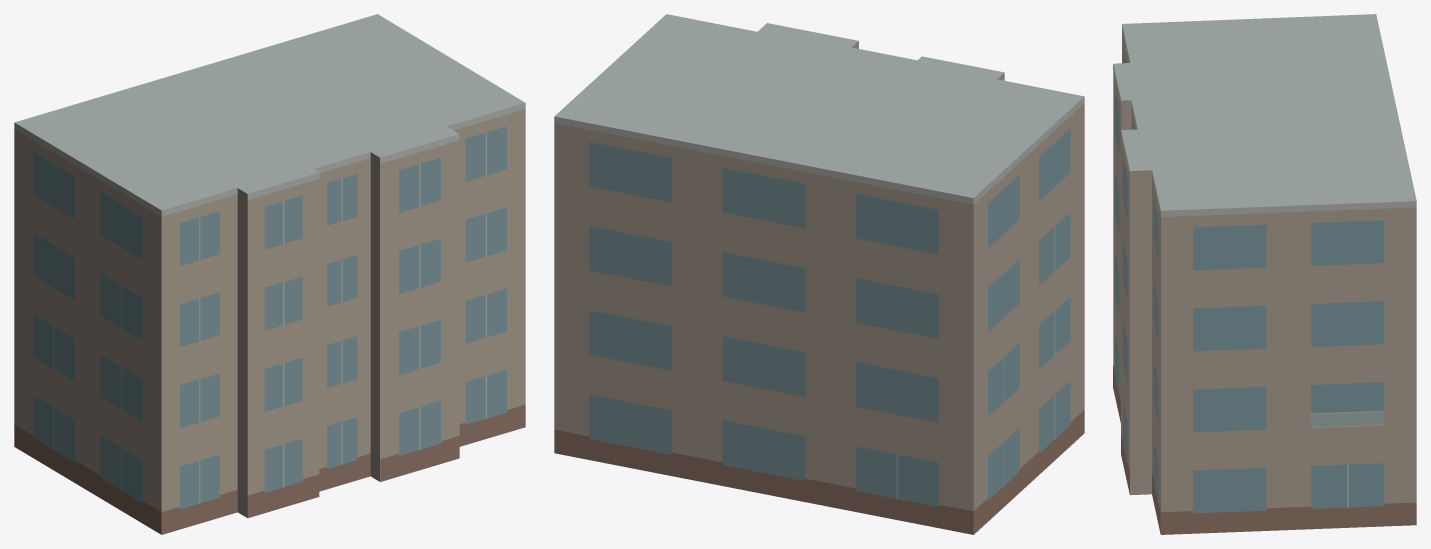
Rendered from survey-upis-32778000.glb.
The picture shows the model from 3 angles, left to right: view 1: azimuth 30°, elevation 25°; view 2: azimuth 150°, elevation 25°; view 3: azimuth 270°, elevation 25°; orthographic projection. The views are drawn at different scales.
Visible parts, largest first — view 1: survey-upis-32778000.tmp; view 2: survey-upis-32778000.tmp; view 3: survey-upis-32778000.tmp.
Part boxes in pixels (x1,y1,x2,y2): survey-upis-32778000.tmp: (14,14,525,534); survey-upis-32778000.tmp: (554,14,1084,534); survey-upis-32778000.tmp: (1113,14,1416,534).
Bounding box in the file's own units: 16.29 × 12.5 × 10.62.
